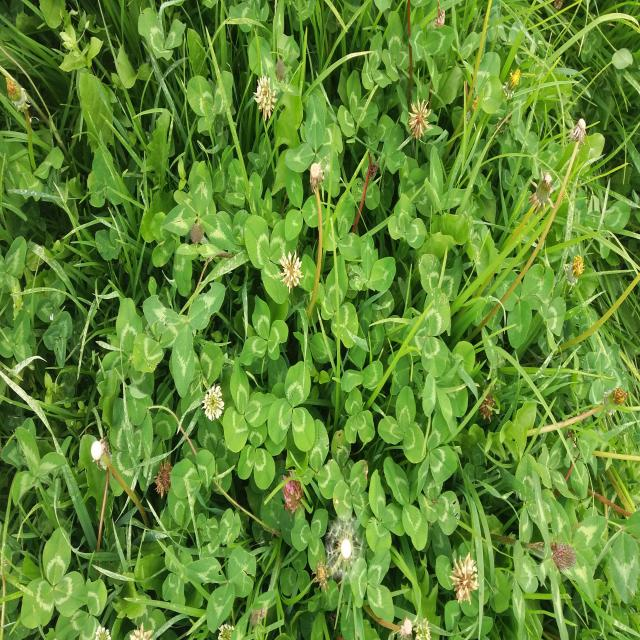Four Leaf Clover: (162, 544, 193, 605)
